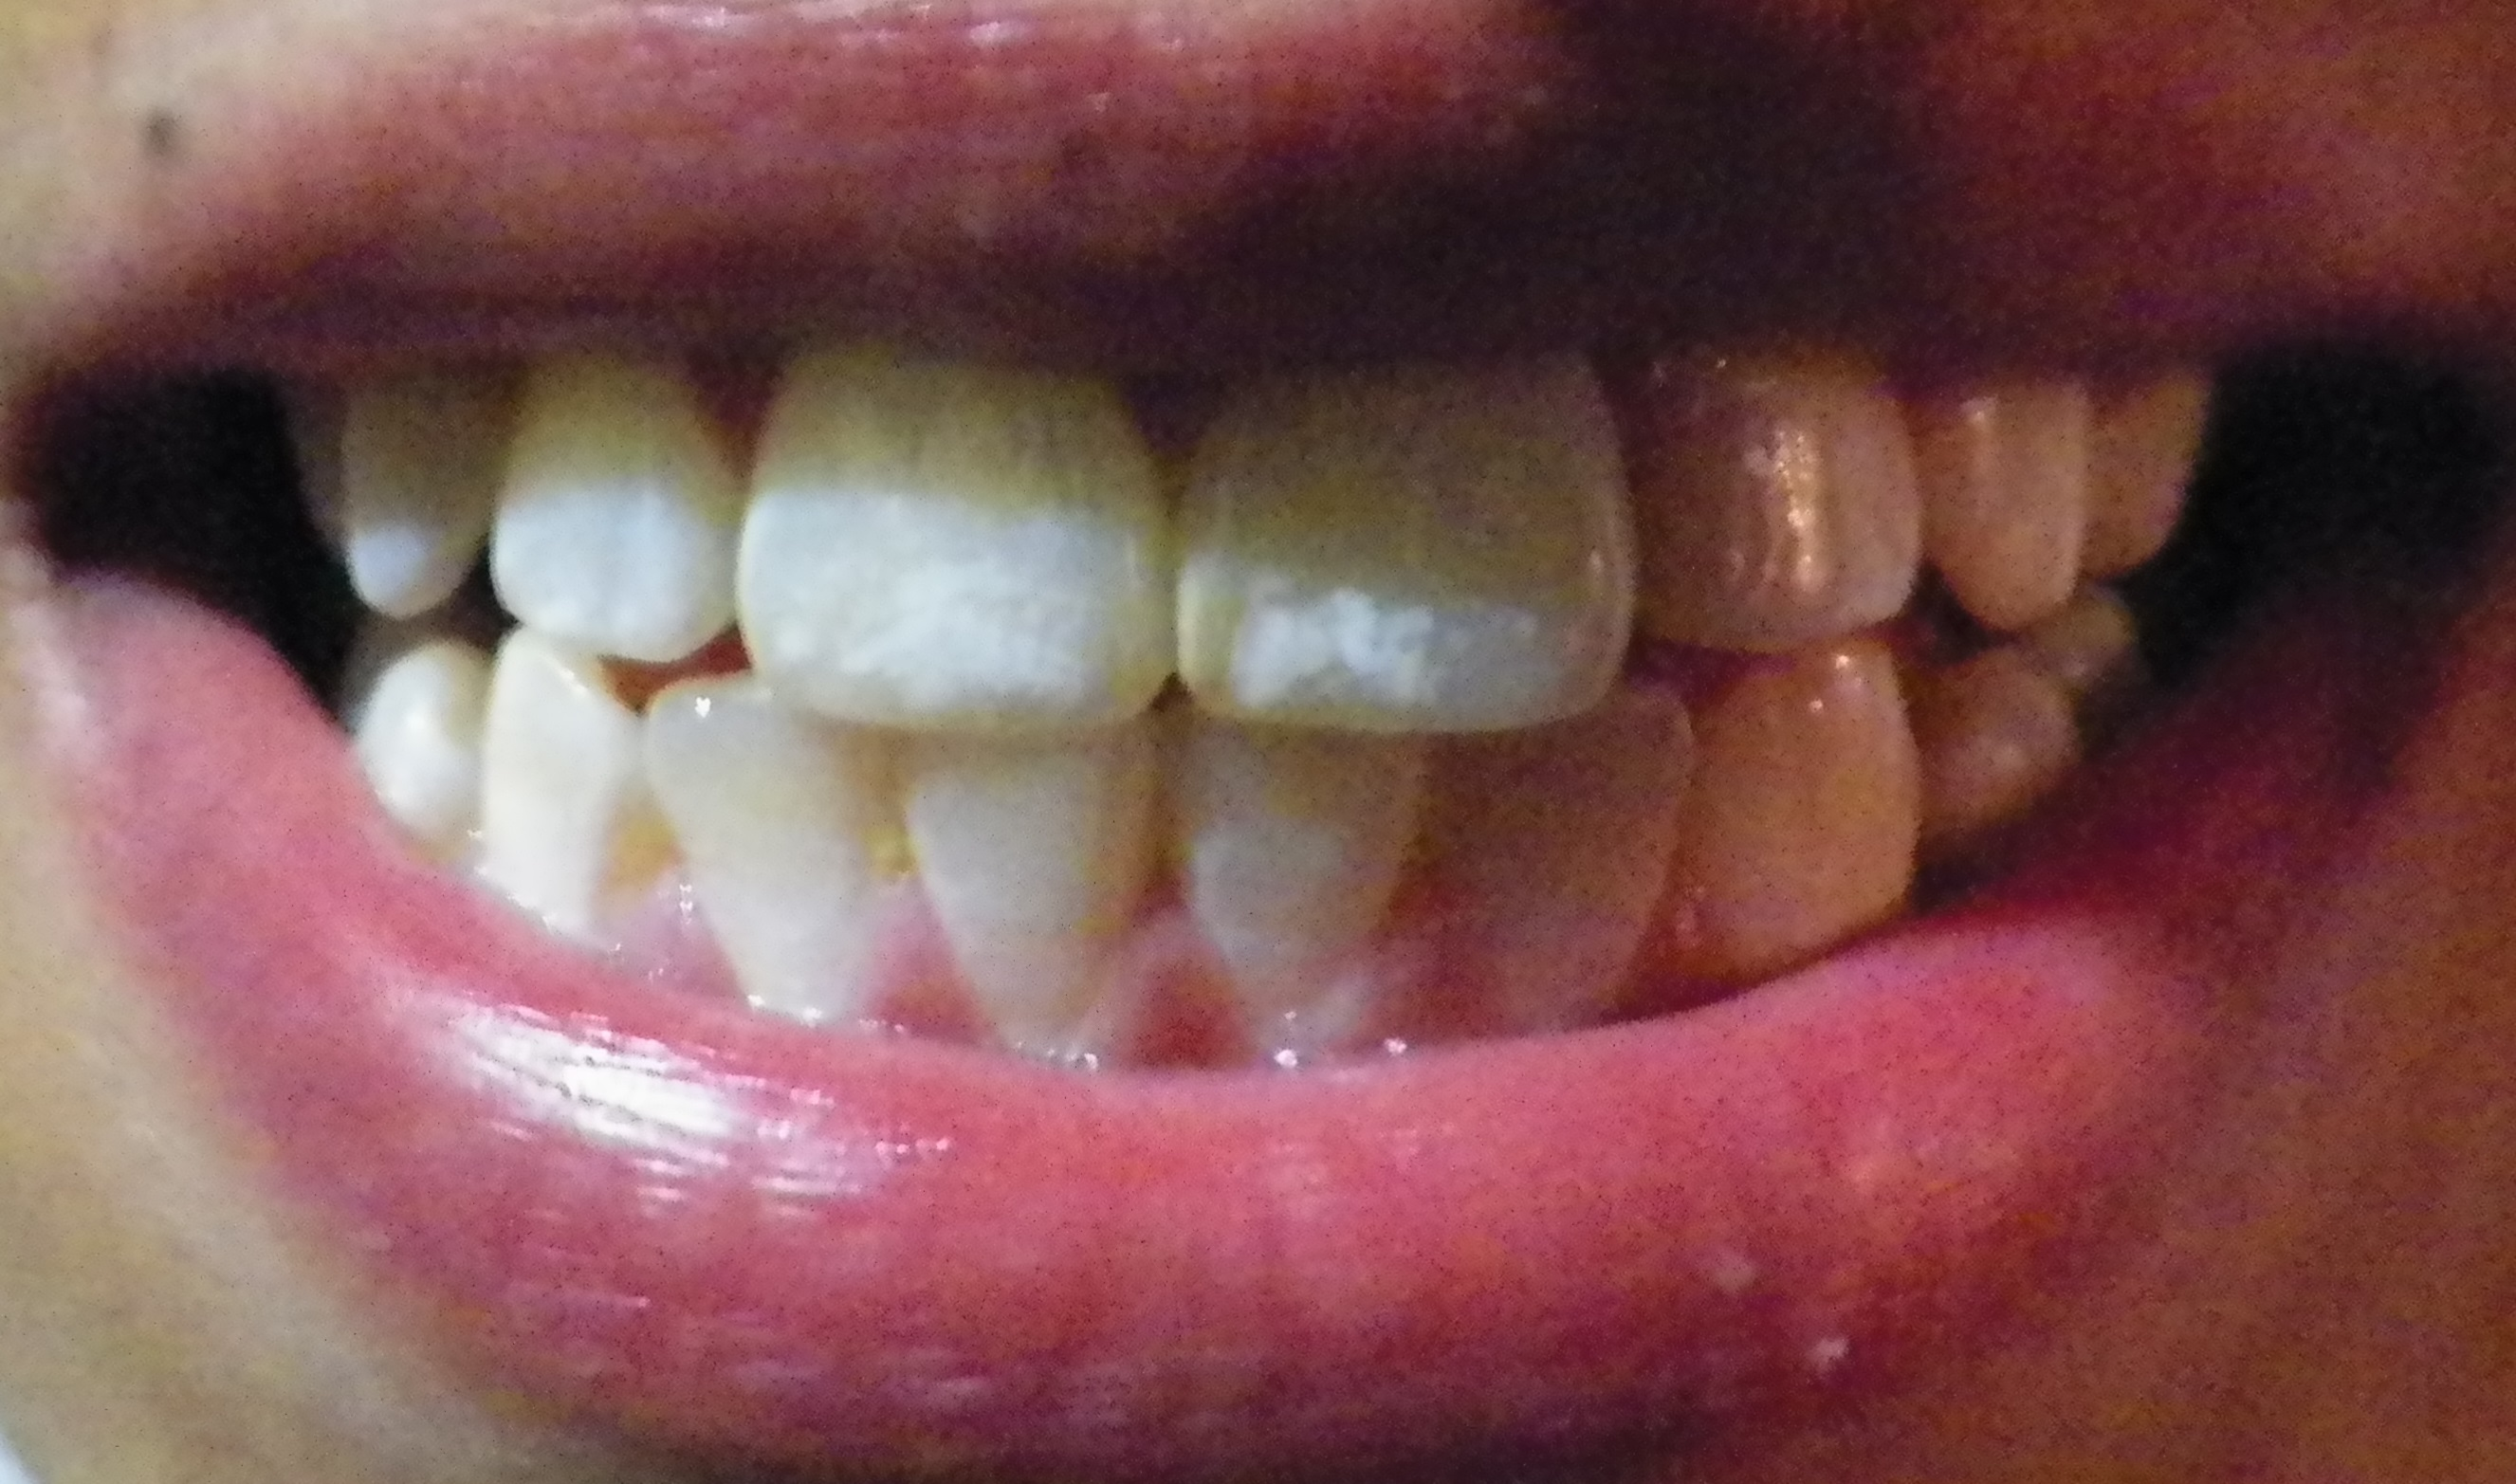boca: (316, 359, 2262, 977)
